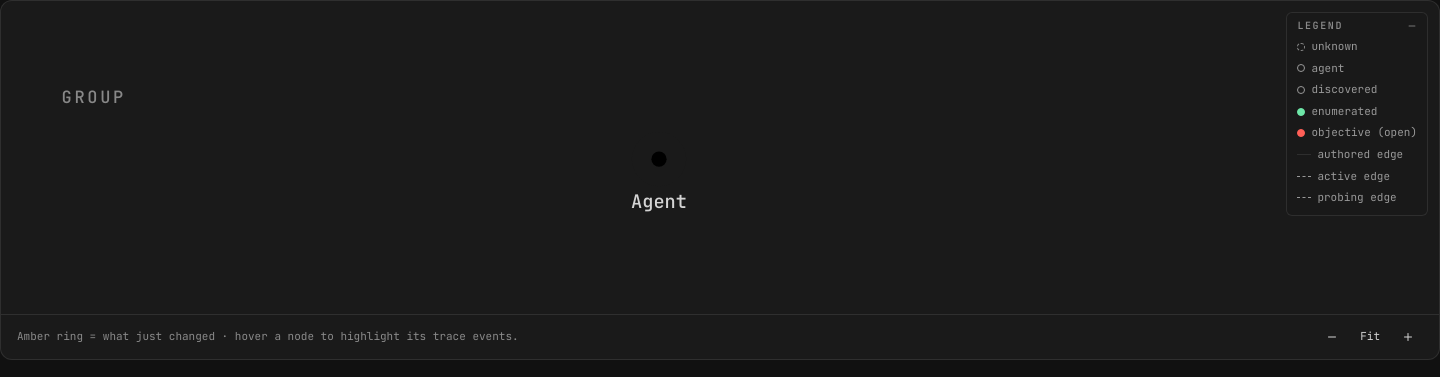
TerrainMap › the legend can be minimised and expanded
The width and height of the screenshot is (1440, 377).
Expected: the text "Agent" is shown, [631,189,687,214]
Expected: the list item "discovered" is shown, [1297,82,1377,96]
minimise → the key collapses to just the "Legend" pill (now an Expand control)
Click the button with aria-label "Minimise legend" at (1357, 26), box [1287,13,1427,38]
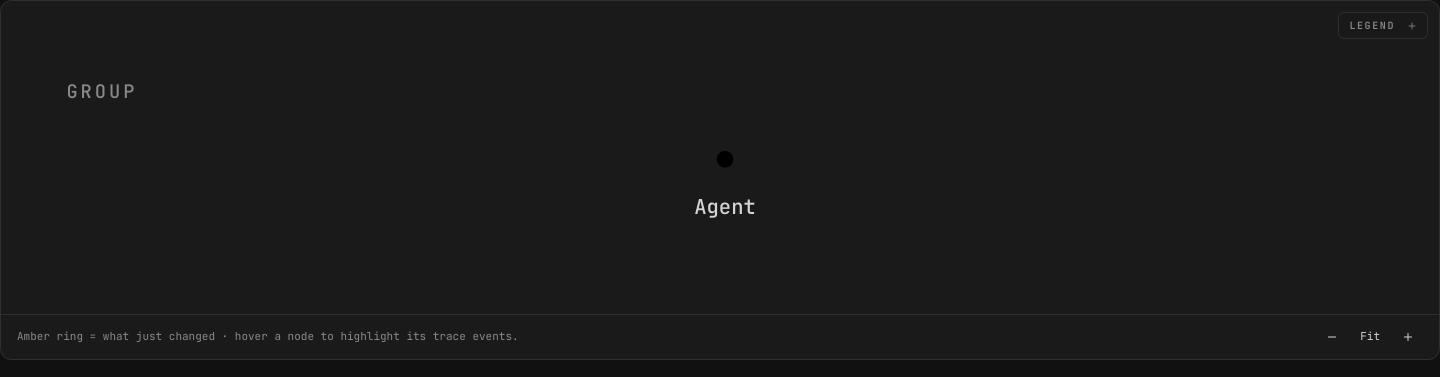
Expected: the list item "discovered" is gone
expand again → the key returns
Click the button with aria-label "Expand legend" at (1383, 26), box [1339,13,1427,38]
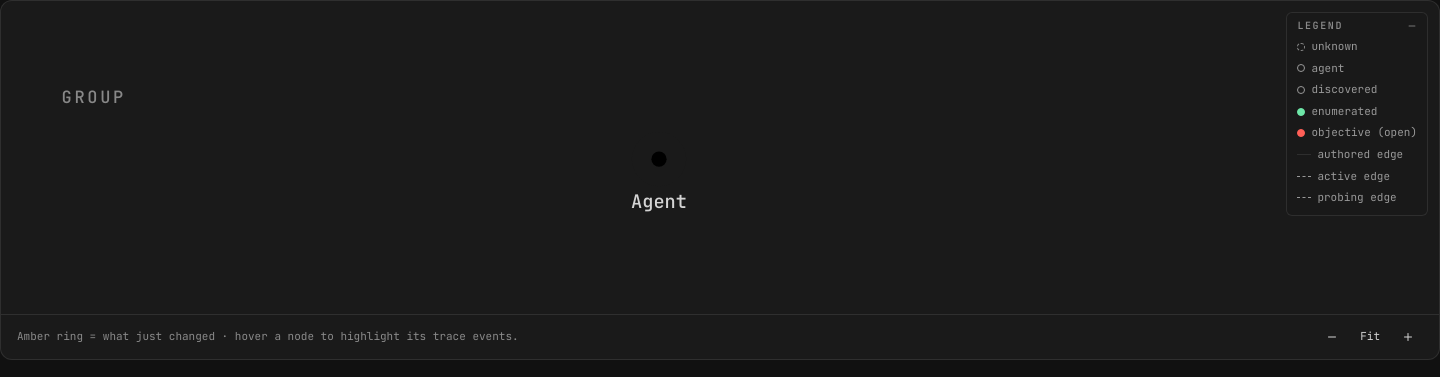
Expected: the list item "discovered" is shown, [1297,82,1377,96]
